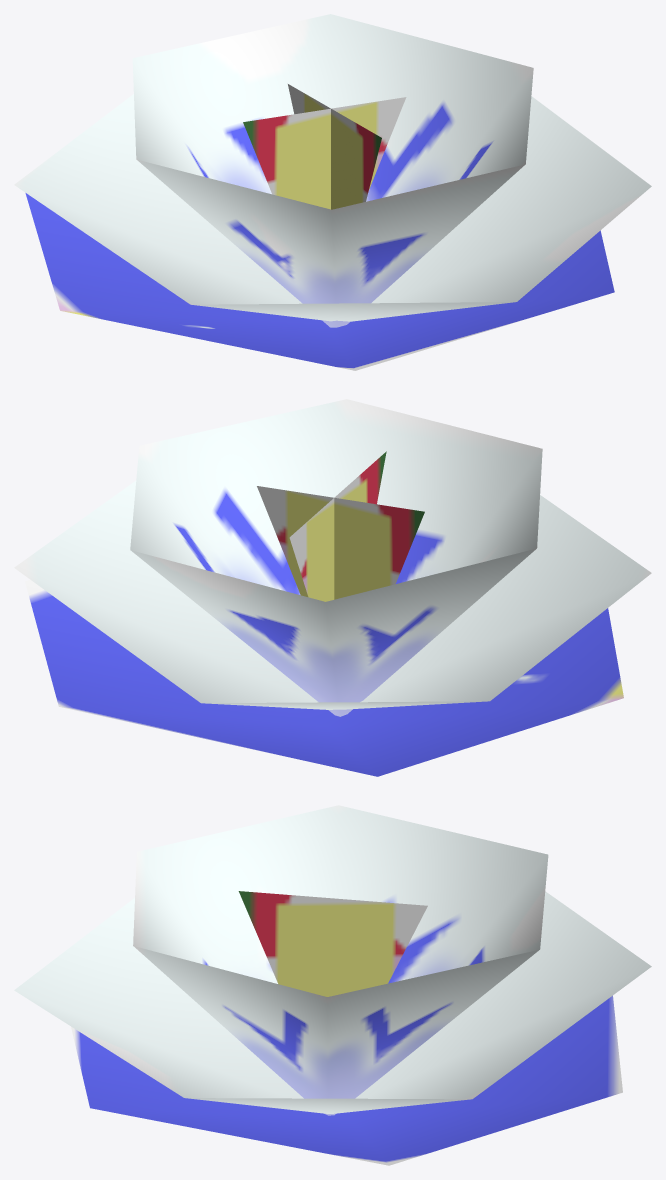
File: Water_lily_b.fbx
3 views of the same model, one above another, from view 1: azimuth 30°, elevation 25°; view 2: azimuth 150°, elevation 25°; view 3: azimuth 270°, elevation 25° (orthographic). The views are drawn at different scales.
Visible parts, largest first — view 1: polySurface72; view 2: polySurface72; view 3: polySurface72.
Part boxes in pixels (x1,y1,x2,y2): polySurface72: (14,14,651,370); polySurface72: (14,399,651,776); polySurface72: (14,805,651,1165).
Size of the model in its own units: 0.3853 by 0.1522 by 0.3839.
